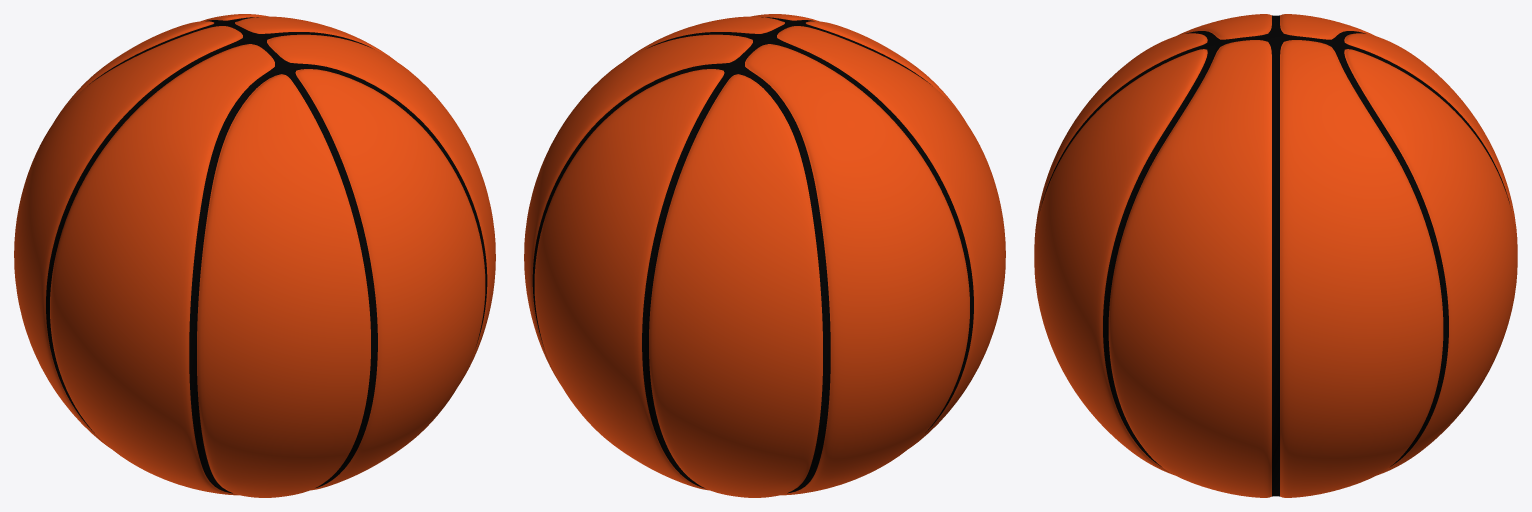
File: basket_ball.glb
3 views of the same model, side by side, from view 1: azimuth 30°, elevation 25°; view 2: azimuth 150°, elevation 25°; view 3: azimuth 270°, elevation 25° (orthographic).
Parts seen in each view (by area): view 1: Object_2, Object_3; view 2: Object_2, Object_3; view 3: Object_2, Object_3.
Boxes of the visible parts, x1,y1,x2,y2 form: Object_2: (14,14,495,497); Object_3: (46,17,487,493); Object_2: (524,14,1005,497); Object_3: (532,17,973,493); Object_2: (1034,14,1517,497); Object_3: (1042,15,1509,496).
Bounding box in the file's own units: 1.62 × 1.62 × 1.62.
